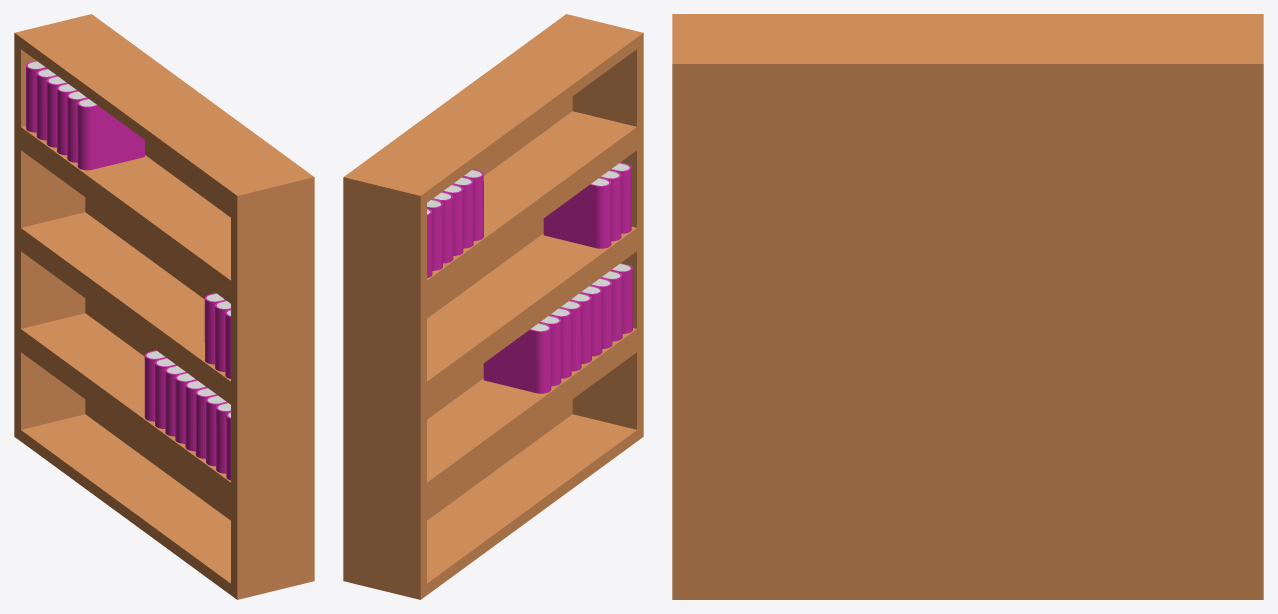
Rendered from libreroRosa.glb.
3 views of the same model, side by side, from view 1: azimuth 30°, elevation 25°; view 2: azimuth 150°, elevation 25°; view 3: azimuth 270°, elevation 25° (orthographic). The views are drawn at different scales.
Visible parts, largest first — view 1: Librero; view 2: Librero; view 3: Librero.
Boxes of the visible parts, x1,y1,x2,y2 form: Librero: [14, 14, 314, 599]; Librero: [343, 14, 643, 599]; Librero: [672, 14, 1263, 599].
Size of the model in its own units: 0.67 by 3.35 by 3.35.
